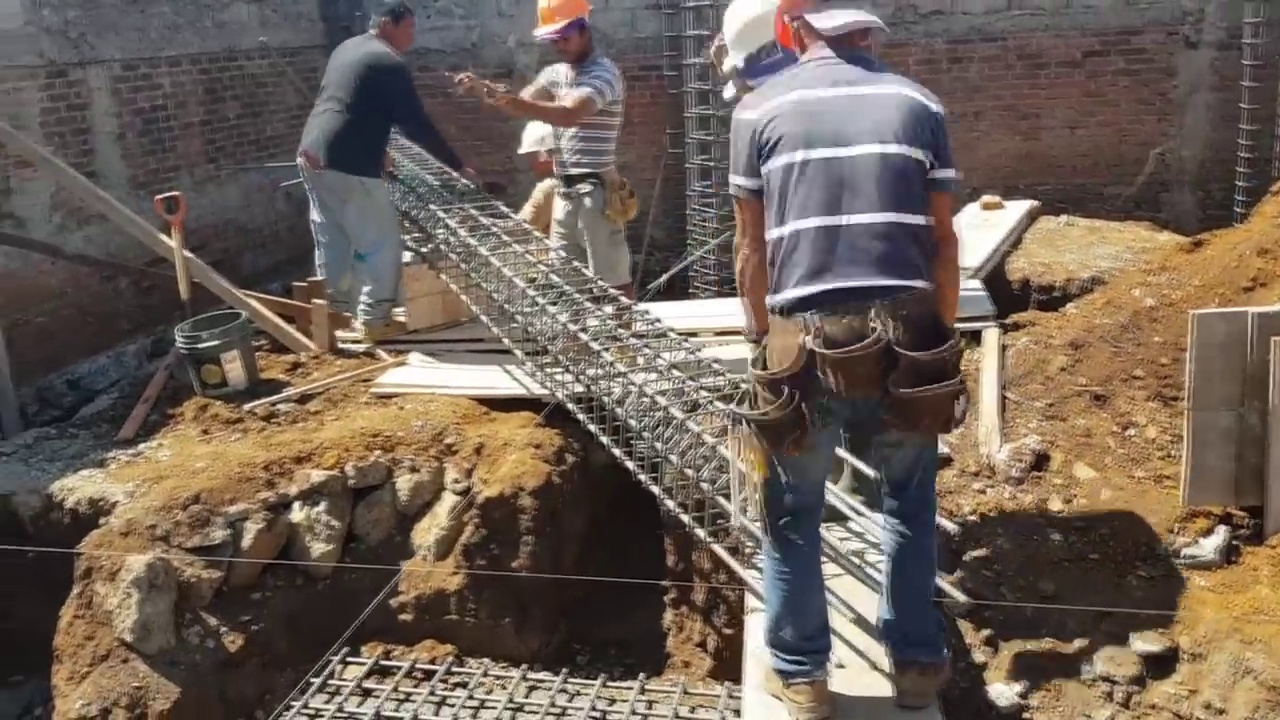helmet: (531, 2, 597, 42)
helmet-off: (778, 4, 895, 81), (362, 5, 420, 55)
helmet-on: (531, 2, 597, 63)
person: (725, 3, 985, 720), (302, 0, 452, 366), (493, 0, 631, 292)
